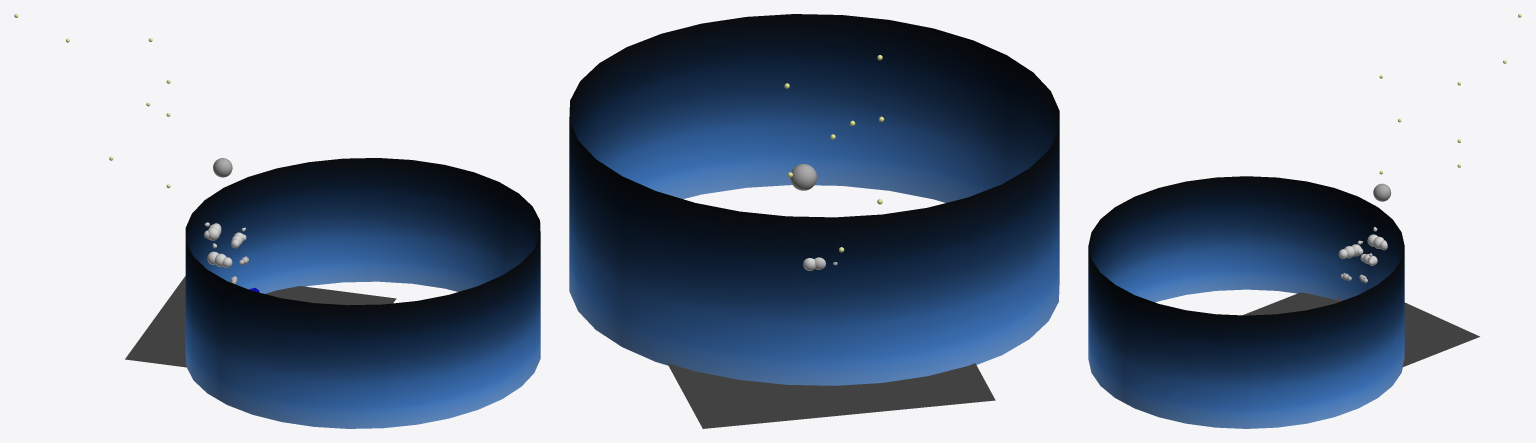
Rendered from background.glb.
3 renders of one model, left to right at view 1: azimuth 30°, elevation 25°; view 2: azimuth 150°, elevation 25°; view 3: azimuth 270°, elevation 25°, orthographic. The views are drawn at different scales.
Visible parts, largest first — view 1: Cylinder, Plane; view 2: Cylinder, Plane, Sphere; view 3: Cylinder, Plane.
Boxes of the visible parts, box(x1,y1,x2,y2) form: Cylinder: box(185, 158, 540, 428); Plane: box(125, 276, 396, 367); Cylinder: box(569, 14, 1059, 385); Plane: box(667, 363, 995, 428); Sphere: box(790, 164, 816, 190); Cylinder: box(1088, 176, 1404, 428); Plane: box(1243, 292, 1479, 366).
Size of the model in its own units: 115 by 86.97 by 133.
569 materials, 1 textured.
